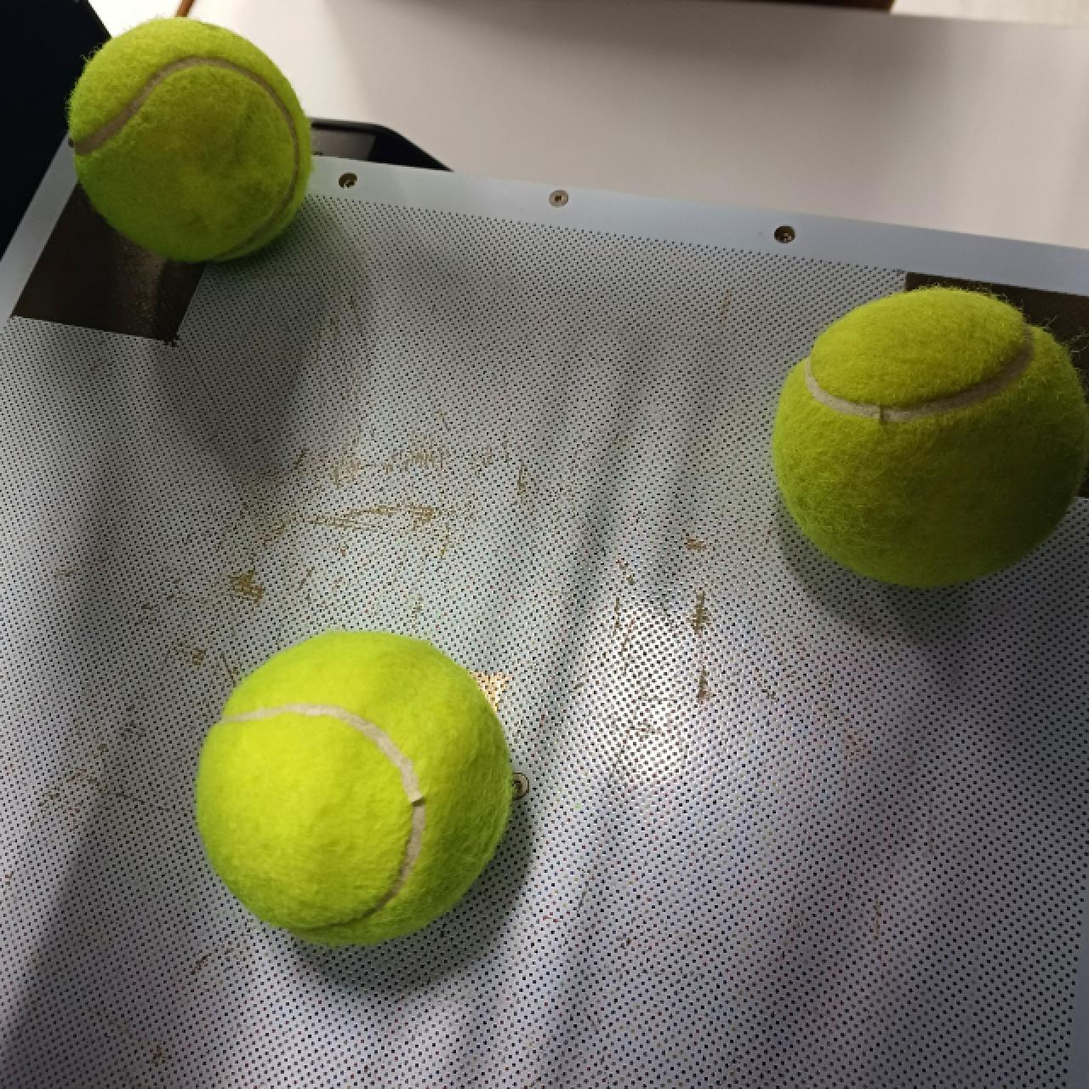tennis-ball: (193, 623, 518, 953), (768, 281, 1089, 592), (67, 11, 320, 261)
